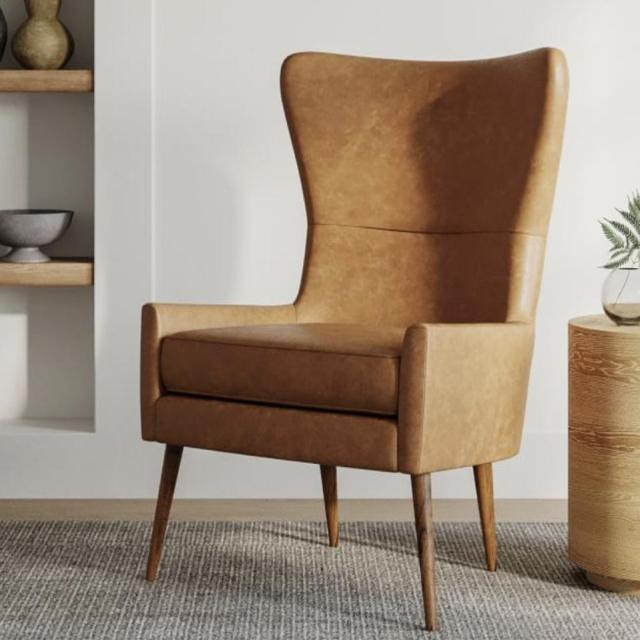chair: (124, 21, 577, 638)
